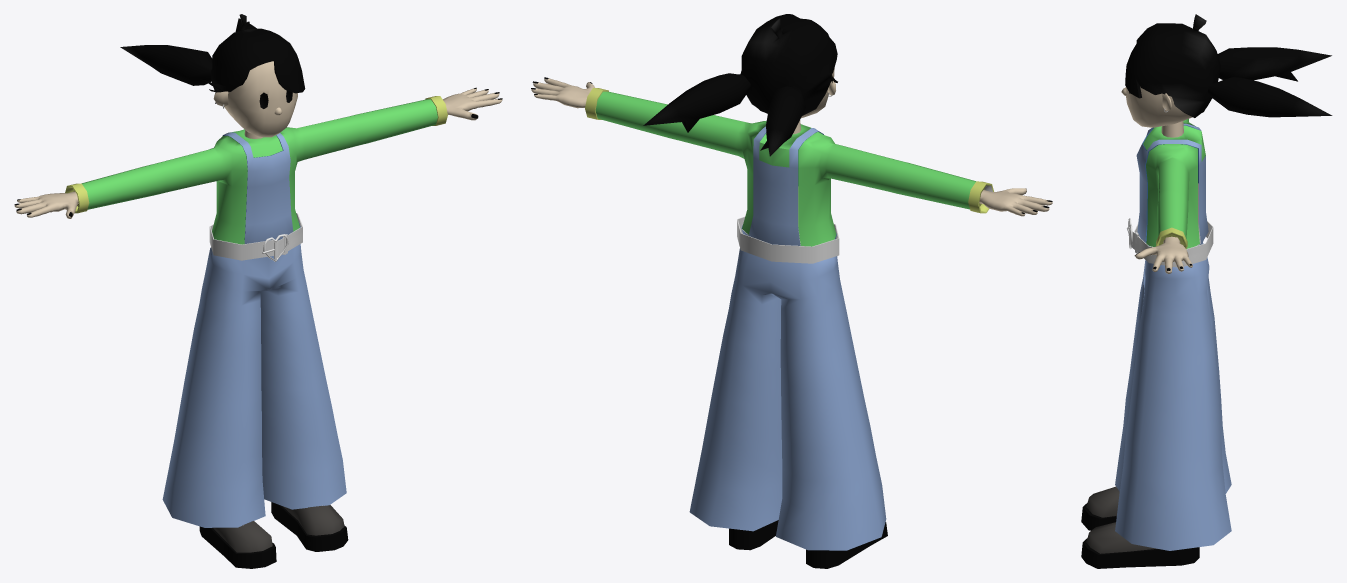
File: ProtagonistBelt.fbx
3 views of the same model, side by side, from view 1: azimuth 30°, elevation 25°; view 2: azimuth 150°, elevation 25°; view 3: azimuth 270°, elevation 25° (orthographic). The views are drawn at different scales.
Parts seen in each view (by area): view 1: Protagonista, Cinto; view 2: Protagonista, Cinto; view 3: Protagonista, Cinto.
Part boxes in pixels (<box>): Protagonista: <box>14,14,502,568</box>; Cinto: <box>209,213,302,261</box>; Protagonista: <box>531,14,1052,568</box>; Cinto: <box>737,216,839,263</box>; Protagonista: <box>1081,14,1332,568</box>; Cinto: <box>1127,218,1213,267</box>.
Size of the model in its own units: 155 by 155 by 67.16.
